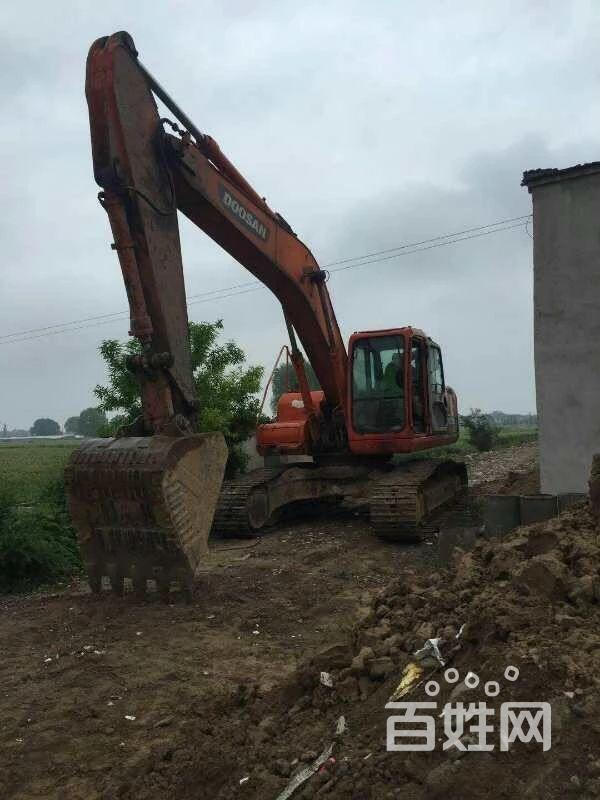excavator: (63, 24, 485, 593)
